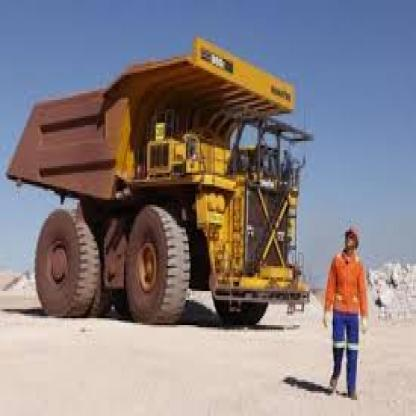dump_truck: (12, 30, 309, 334)
person: (312, 204, 378, 402)
